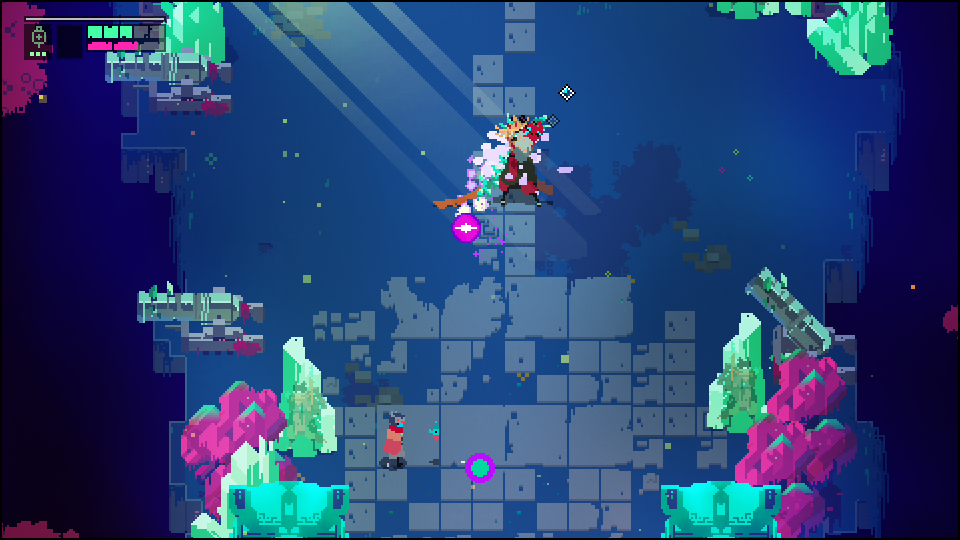hanged_man: (471, 112, 548, 208)
hanged_shot: (462, 452, 494, 481), (451, 214, 478, 246)
player: (382, 412, 406, 473)
